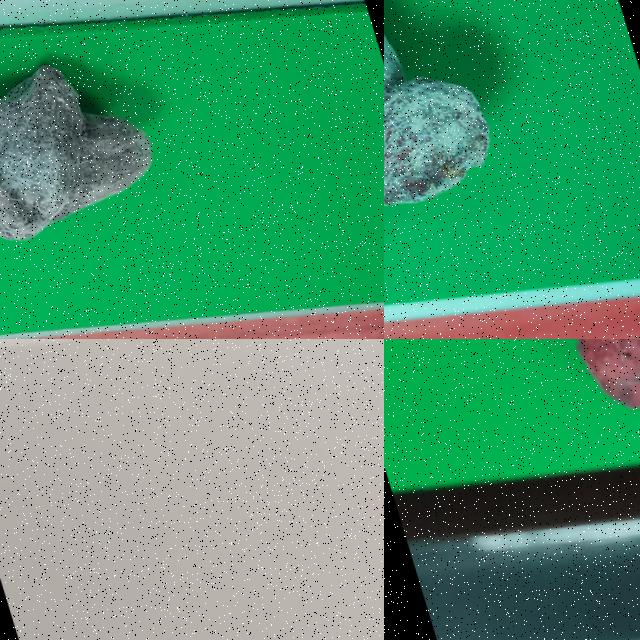Agglomerated_cocoabeans: (0, 0, 250, 305), (384, 0, 586, 304)
Flat_cocoabeans: (472, 339, 639, 457)
